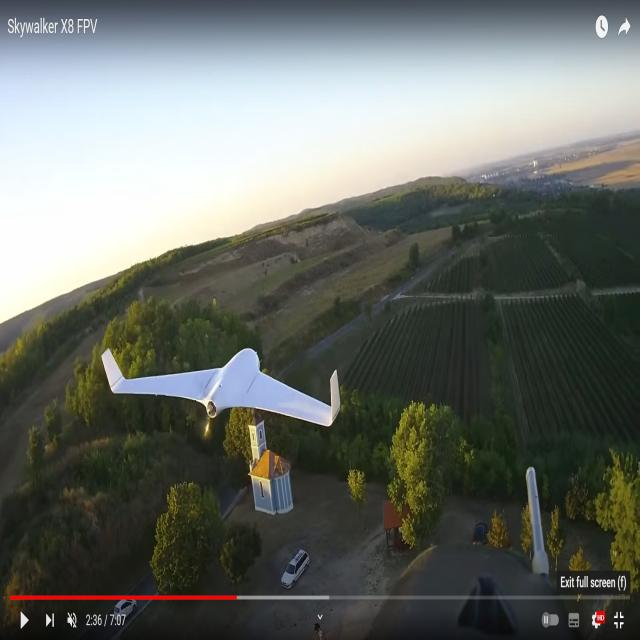iha: (98, 377, 342, 401)
